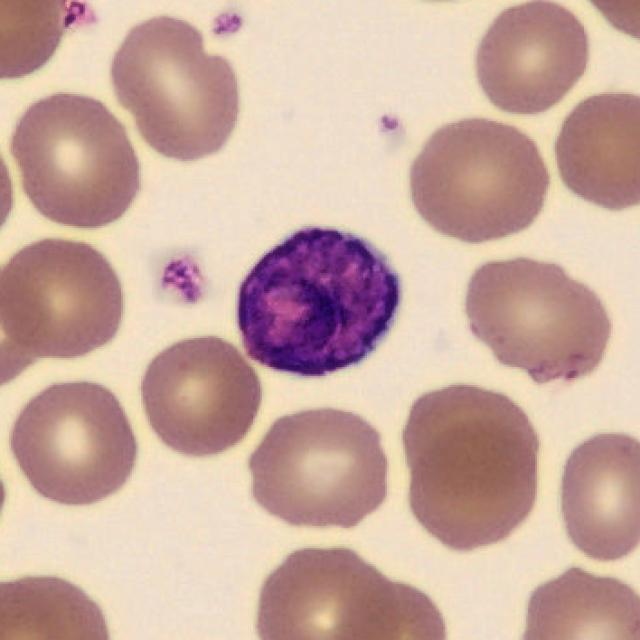Linfocito: (237, 226, 401, 374)
